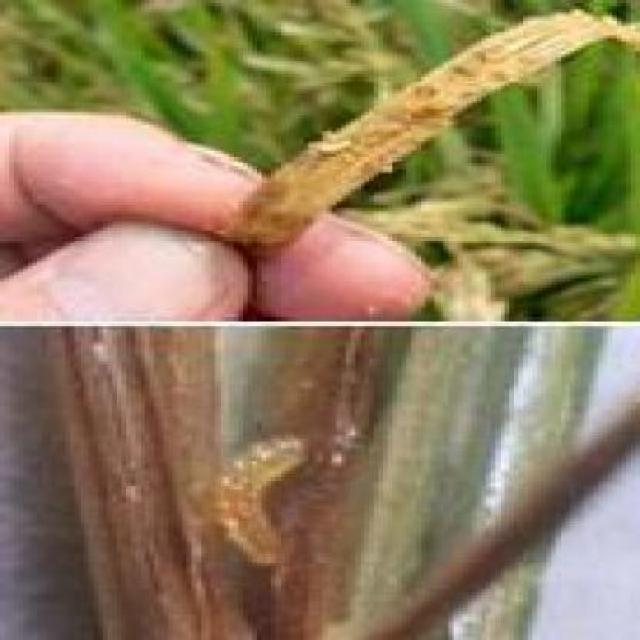whorl-maggot: (209, 429, 316, 576), (309, 132, 365, 163)
